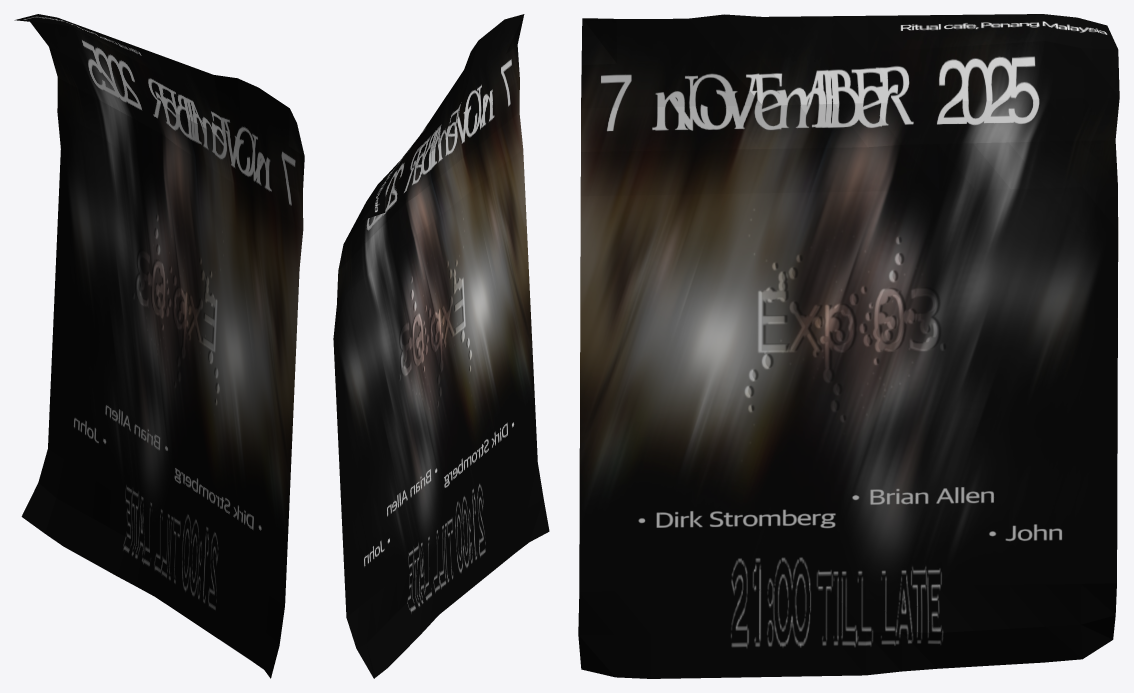
Rendered from exp03.glb.
3 renders of one model, left to right at view 1: azimuth 30°, elevation 25°; view 2: azimuth 150°, elevation 25°; view 3: azimuth 270°, elevation 25°, orthographic. The views are drawn at different scales.
Parts seen in each view (by area): view 1: pPlane1_Poster_01_Mat 5; view 2: pPlane1_Poster_01_Mat 5; view 3: pPlane1_Poster_01_Mat 5.
Part boxes in pixels (<box>): pPlane1_Poster_01_Mat 5: <box>14,14,304,678</box>; pPlane1_Poster_01_Mat 5: <box>333,14,549,678</box>; pPlane1_Poster_01_Mat 5: <box>578,14,1119,678</box>.
Bounding box in the file's own units: 8.48 × 60.58 × 44.
1 material, 1 textured.
